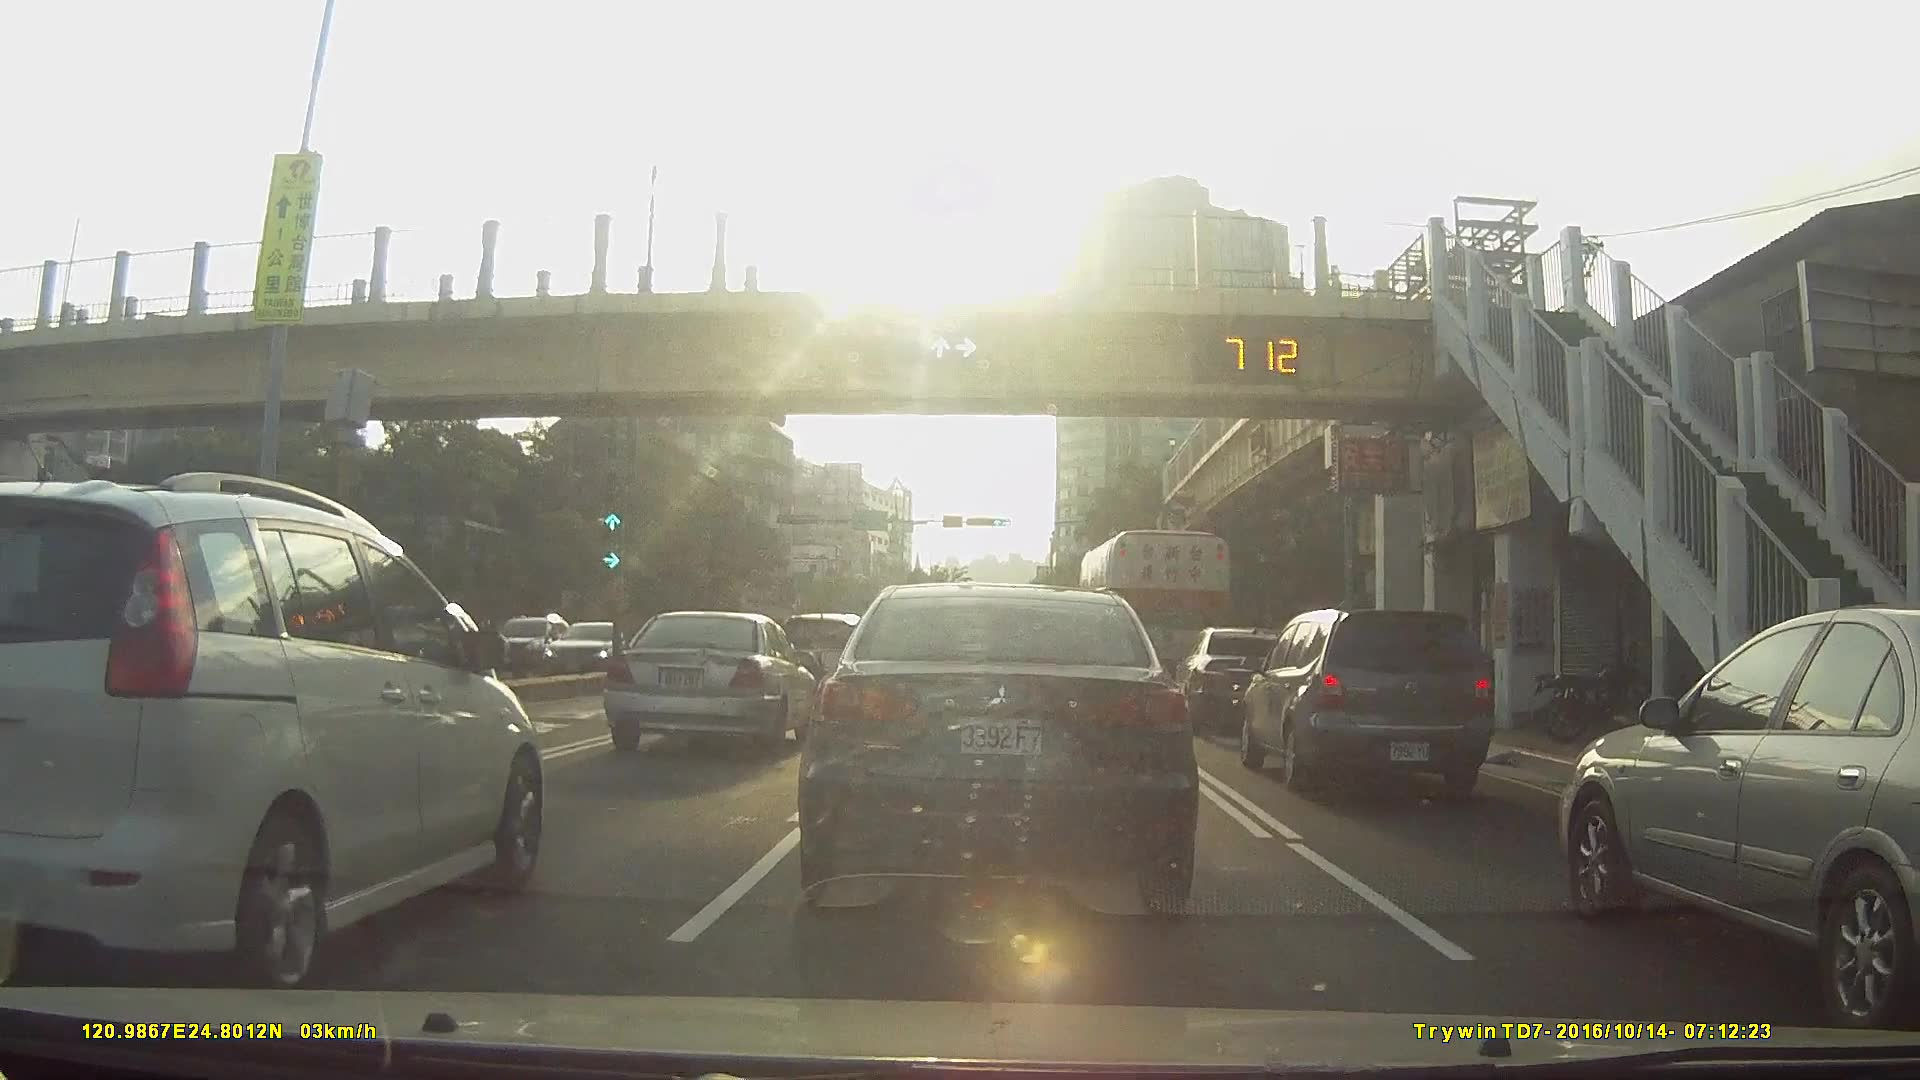vehicle: (0, 472, 554, 992), (1565, 601, 1920, 1036), (800, 580, 1200, 919), (1240, 611, 1497, 796), (607, 608, 824, 756), (1178, 626, 1303, 729), (547, 618, 676, 694), (756, 607, 853, 698), (477, 611, 588, 683)
